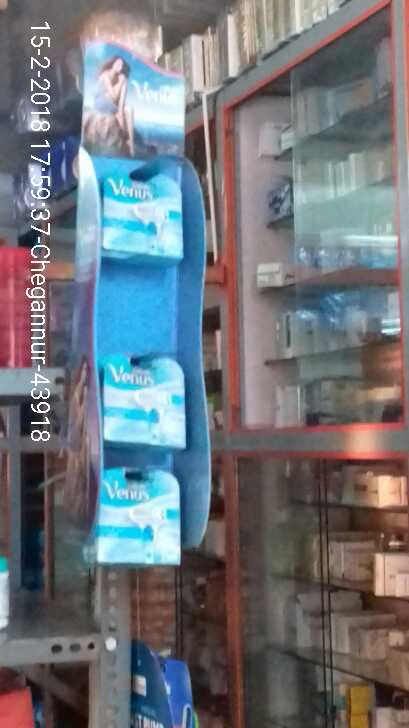venus: (89, 162, 191, 259), (101, 354, 193, 451), (97, 466, 180, 573)
